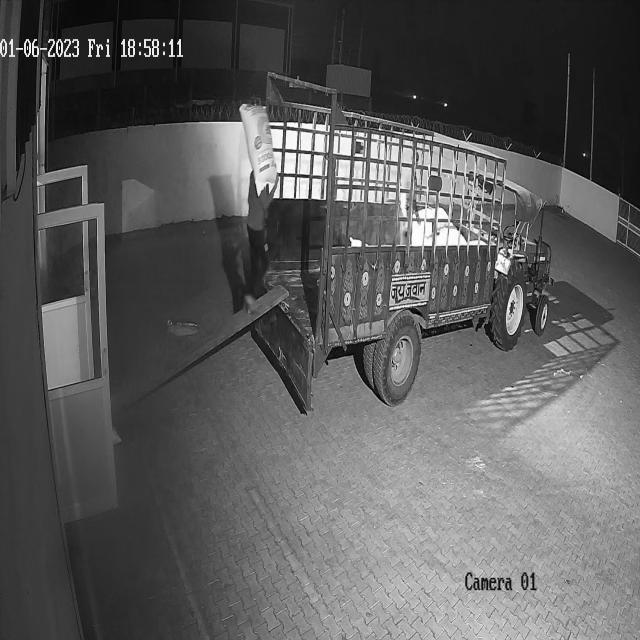sack: (239, 103, 276, 197)
